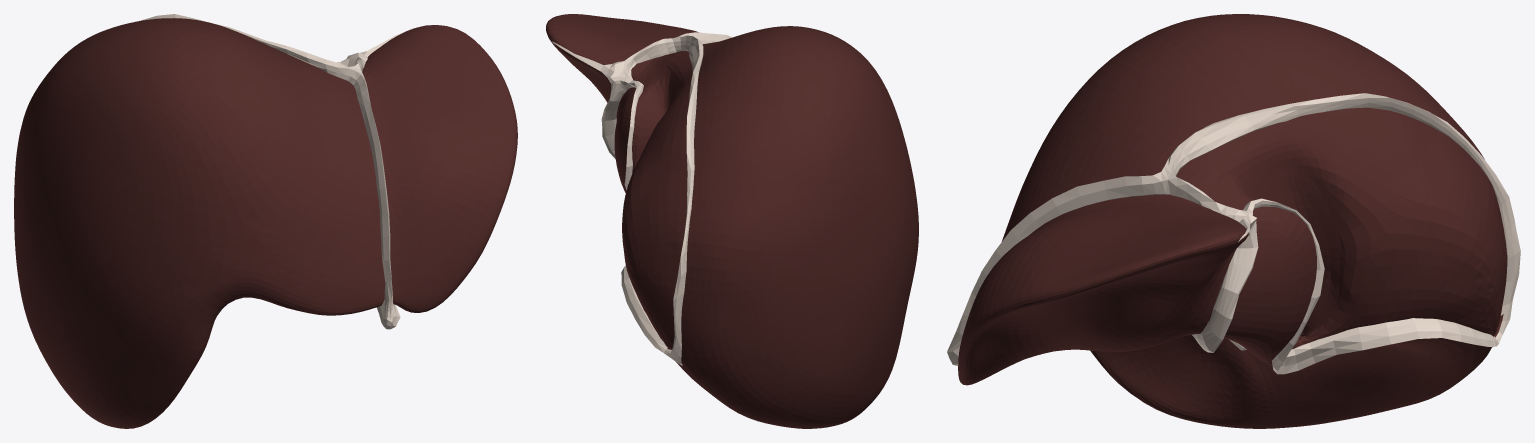
The model's file is liver.glb.
3 renders of one model, left to right at view 1: azimuth 30°, elevation 25°; view 2: azimuth 150°, elevation 25°; view 3: azimuth 270°, elevation 25°, orthographic. The views are drawn at different scales.
Parts seen in each view (by area): view 1: VH_M_liver_capsule, VH_M_falciform_ligament, VH_M_coronary_ligament_of_liver; view 2: VH_M_liver_capsule, VH_M_bare_area_of_liver, VH_M_coronary_ligament_of_liver, VH_M_caudate_lobe_of_liver, VH_M_ligamentum_venosum, VH_M_right_posterosuperior_segment, VH_M_diaphragmatic_surface, VH_M_triangular_ligament_of_liver, VH_M_right_posteroinferior_segment; view 3: VH_M_liver_capsule, VH_M_bare_area_of_liver, VH_M_coronary_ligament_of_liver, VH_M_falciform_ligament, VH_M_caudate_lobe_of_liver, VH_M_diaphragmatic_surface, VH_M_ligamentum_venosum, VH_M_right_posterosuperior_segment.
Part boxes in pixels (box(x1,y1,x2,y2)): VH_M_liver_capsule: box(14, 18, 517, 428); VH_M_falciform_ligament: box(349, 70, 393, 321); VH_M_coronary_ligament_of_liver: box(140, 14, 367, 81); VH_M_liver_capsule: box(546, 14, 918, 428); VH_M_bare_area_of_liver: box(622, 50, 692, 347); VH_M_coronary_ligament_of_liver: box(610, 35, 703, 365); VH_M_caudate_lobe_of_liver: box(632, 54, 688, 164); VH_M_ligamentum_venosum: box(601, 78, 626, 158); VH_M_right_posterosuperior_segment: box(627, 118, 687, 311); VH_M_diaphragmatic_surface: box(632, 73, 680, 317); VH_M_triangular_ligament_of_liver: box(551, 41, 616, 82); VH_M_right_posteroinferior_segment: box(647, 311, 674, 345); VH_M_liver_capsule: box(958, 14, 1503, 428); VH_M_bare_area_of_liver: box(1176, 107, 1507, 344); VH_M_coronary_ligament_of_liver: box(1161, 93, 1520, 374); VH_M_falciform_ligament: box(947, 172, 1165, 351); VH_M_caudate_lobe_of_liver: box(1190, 151, 1341, 348); VH_M_diaphragmatic_surface: box(1225, 156, 1495, 346); VH_M_ligamentum_venosum: box(1192, 220, 1258, 352); VH_M_right_posterosuperior_segment: box(1339, 107, 1495, 314).
Size of the model in its own units: 0.1914 by 0.1746 by 0.2018.
